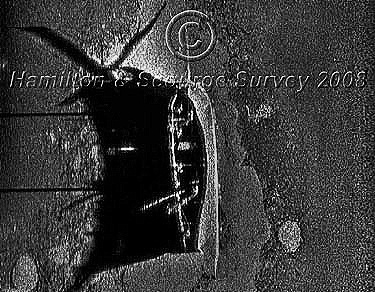ship: (146, 76, 221, 256)
